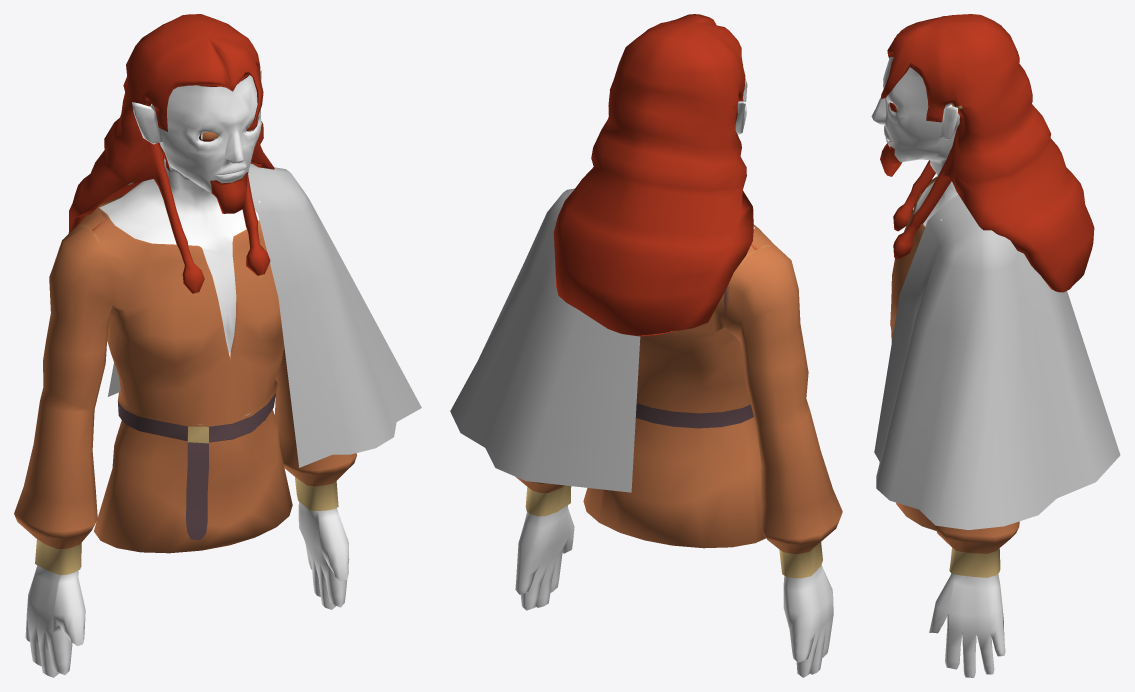
The model's file is Loki_Clothes_MDL_v3.fbx.
The picture shows the model from 3 angles, left to right: view 1: azimuth 30°, elevation 25°; view 2: azimuth 150°, elevation 25°; view 3: azimuth 270°, elevation 25°; orthographic projection. The views are drawn at different scales.
Visible parts, largest first — view 1: LokiBase, LokiCape; view 2: LokiBase, LokiCape; view 3: LokiCape, LokiBase.
Boxes of the visible parts, x1,y1,x2,y2 form: LokiBase: [14, 14, 356, 677]; LokiCape: [108, 163, 421, 467]; LokiBase: [515, 14, 842, 677]; LokiCape: [450, 188, 640, 492]; LokiCape: [874, 194, 1120, 529]; LokiBase: [871, 14, 1094, 677].
Size of the model in its own units: 773 by 1194 by 455.
